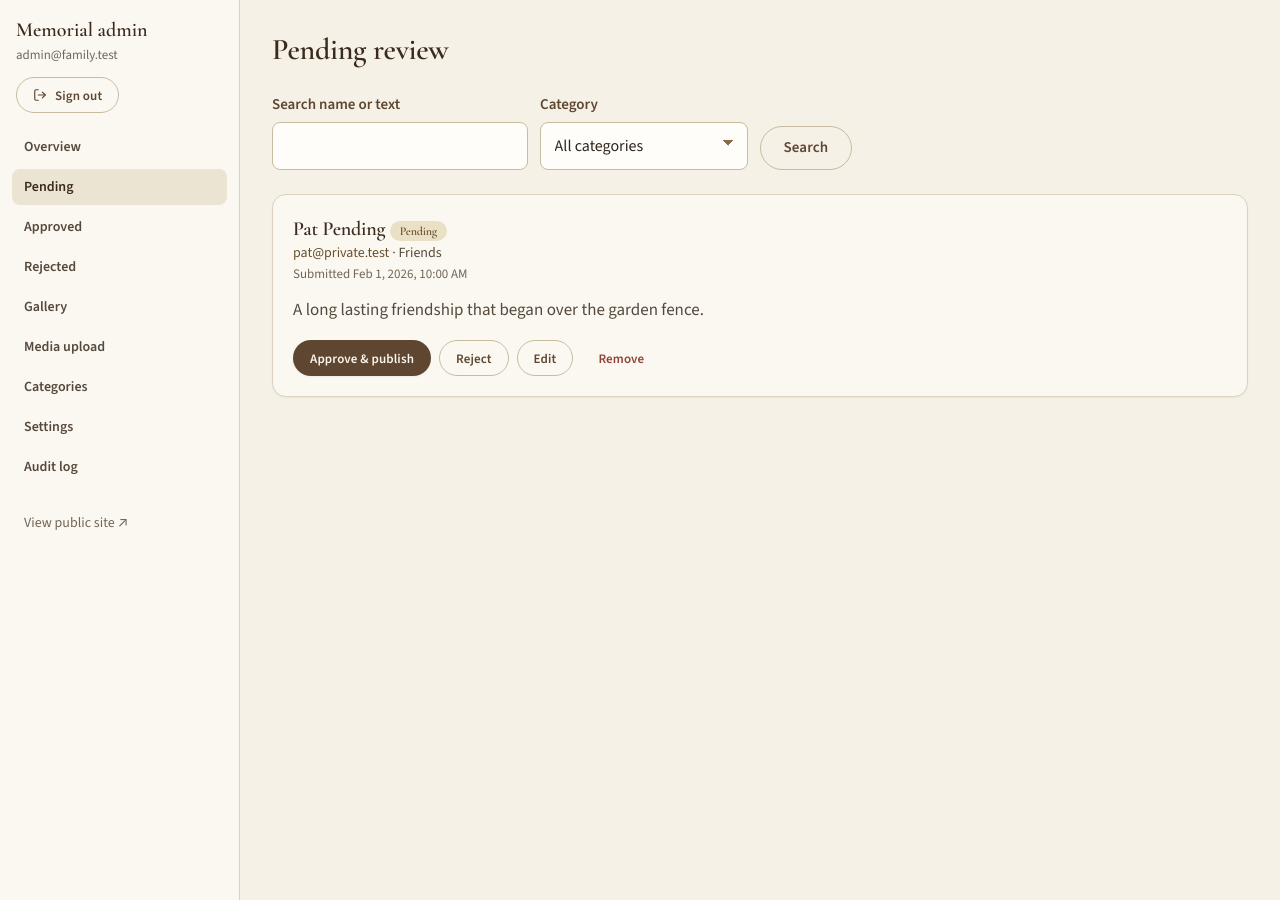
admin dashboard › shows contributor emails ONLY in admin, and confirms before approving (with CSRF header)
The image size is (1280, 900).
Expected: the link "pat@private.test" is shown, left=293, top=243, right=389, bottom=262
Click the button "Approve & publish": (362, 358) left=293, top=340, right=431, bottom=376
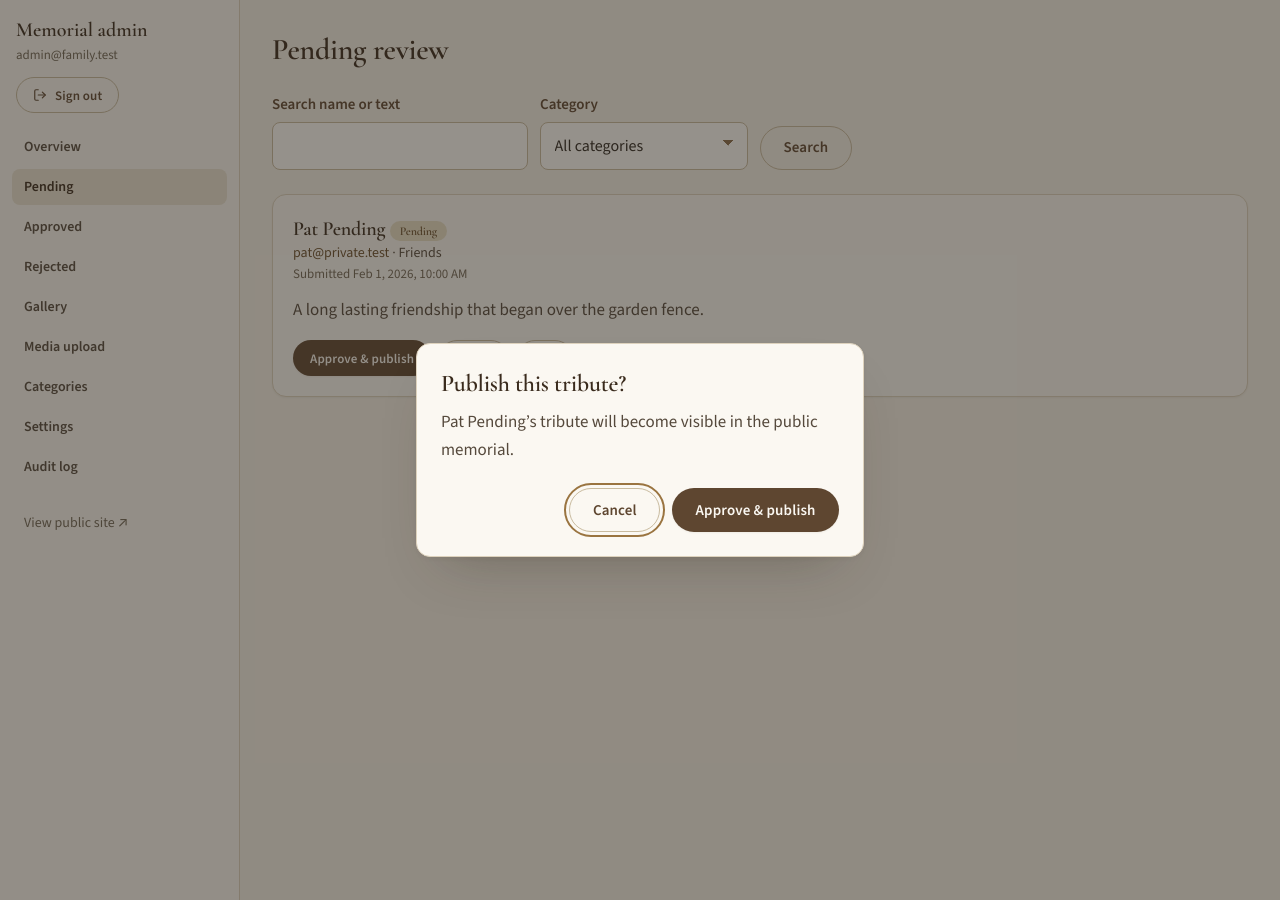
Click the button "Approve & publish": (756, 510) left=672, top=488, right=839, bottom=532
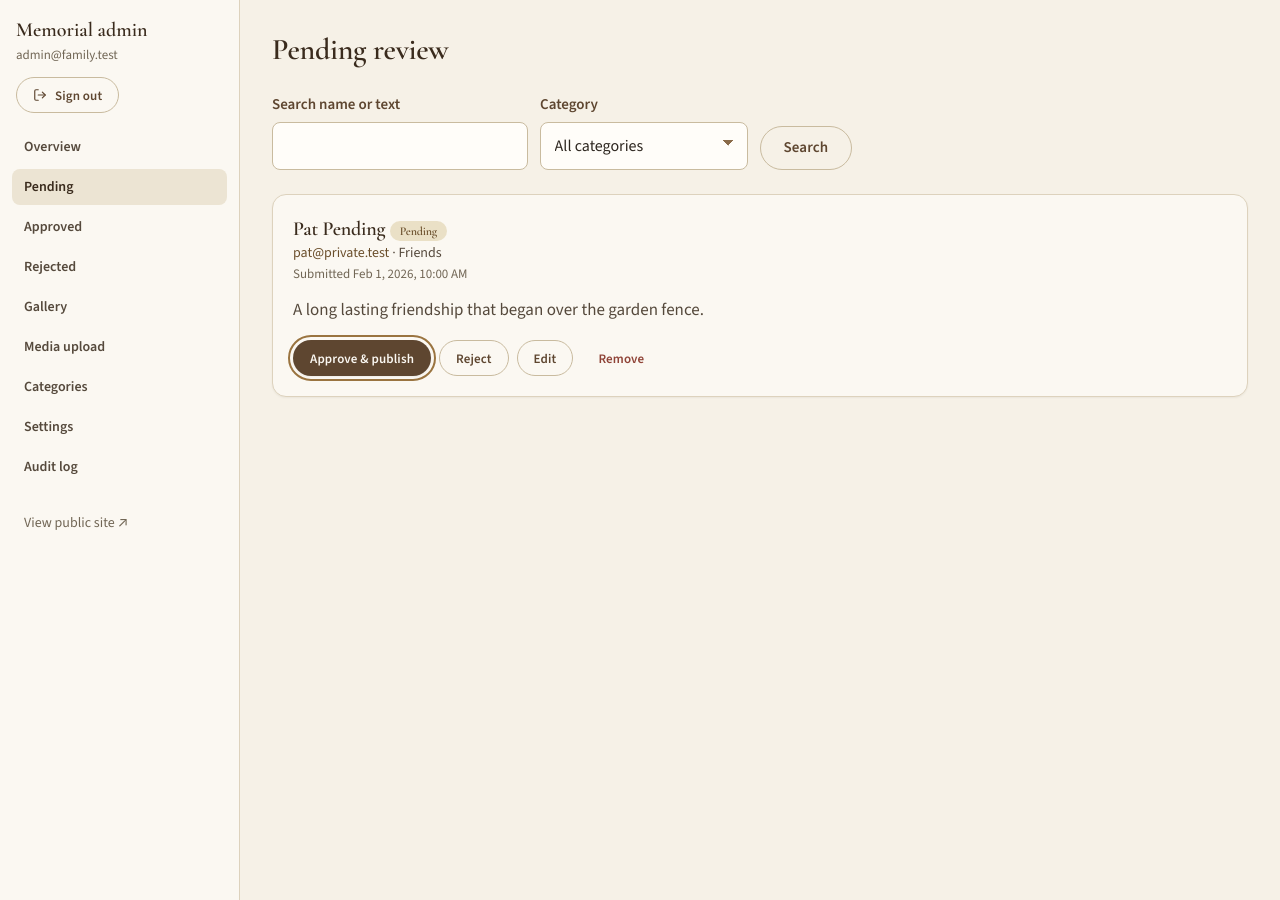
Result: the dialog is gone
